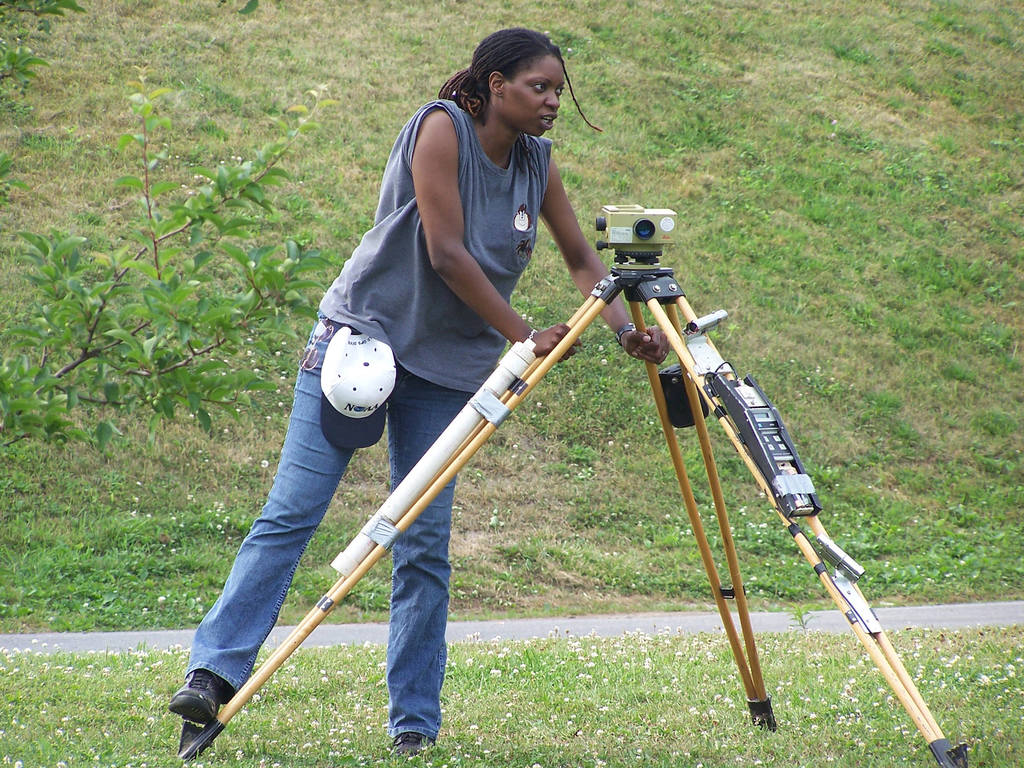Person: (168, 27, 670, 756)
